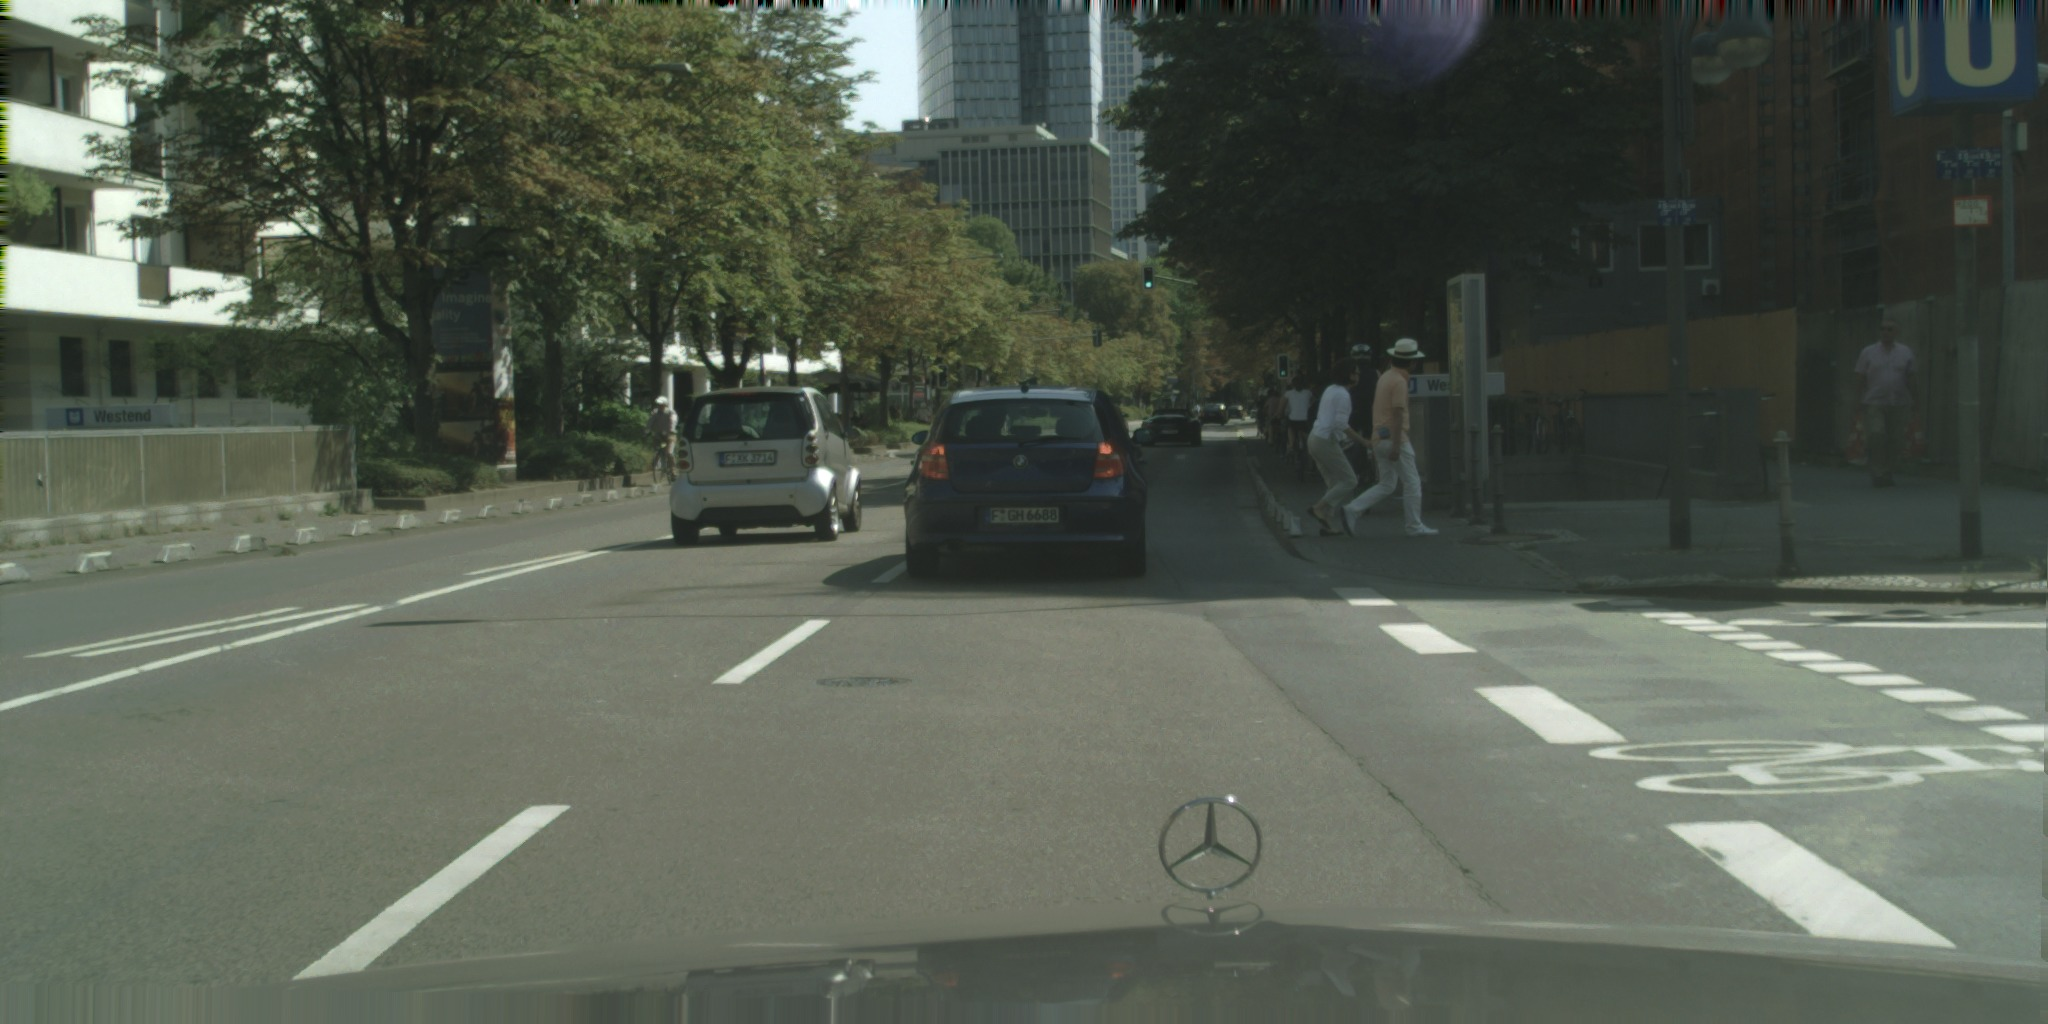bicycle: (1545, 389, 1587, 453), (642, 431, 678, 484), (1522, 391, 1550, 455), (1353, 438, 1376, 514), (1285, 427, 1305, 481), (1271, 419, 1282, 455), (1260, 419, 1263, 439), (1264, 431, 1268, 444)
car: (905, 379, 1156, 576), (670, 386, 861, 545), (1142, 410, 1201, 445), (1199, 403, 1229, 425), (1224, 405, 1246, 420), (1251, 410, 1257, 419)
person: (1341, 338, 1438, 537), (1845, 320, 1924, 487), (1306, 357, 1373, 537), (916, 401, 930, 425), (888, 399, 901, 422)
rider: (1337, 343, 1381, 442), (1275, 377, 1317, 456), (644, 394, 678, 481), (1261, 391, 1283, 447), (1261, 389, 1274, 433), (1257, 394, 1269, 438)
